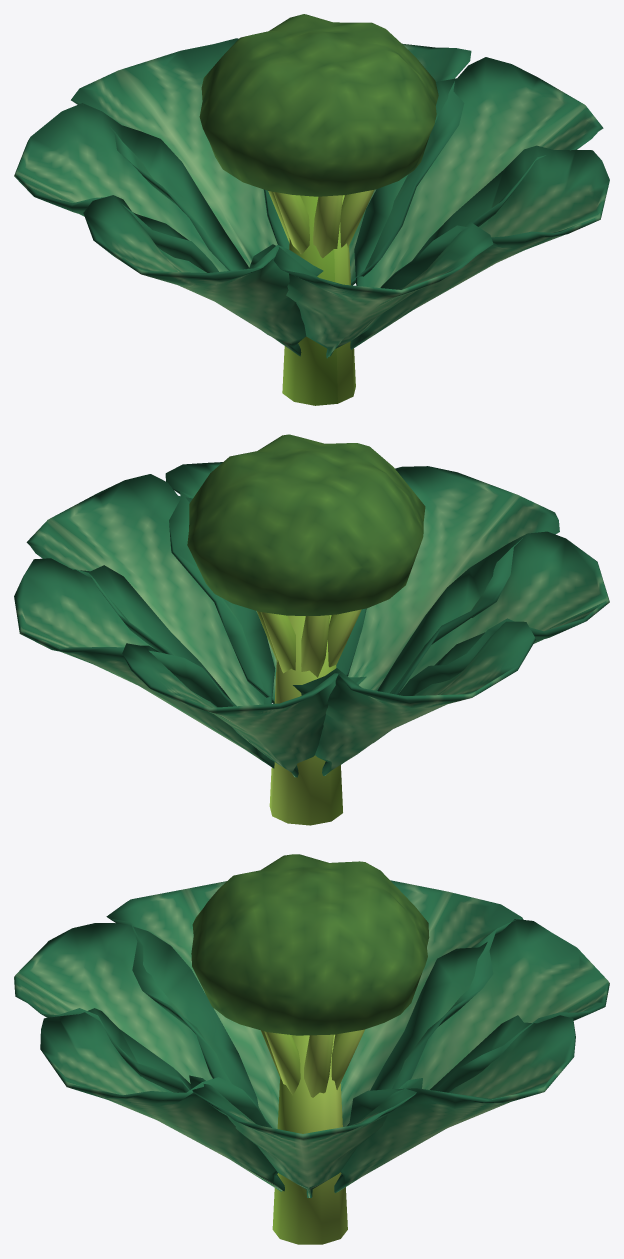
File: NP_Broccoli_HeadForming_LOD1.fbx
The picture shows the model from 3 angles, top to bottom: view 1: azimuth 30°, elevation 25°; view 2: azimuth 150°, elevation 25°; view 3: azimuth 270°, elevation 25°; orthographic projection.
Parts seen in each view (by area): view 1: NP_Broccoli_HeadForming; view 2: NP_Broccoli_HeadForming; view 3: NP_Broccoli_HeadForming.
Boxes of the visible parts, bbox=[...] form: NP_Broccoli_HeadForming: bbox=[14, 14, 609, 405]; NP_Broccoli_HeadForming: bbox=[14, 434, 609, 825]; NP_Broccoli_HeadForming: bbox=[14, 854, 609, 1244].
Bounding box in the file's own units: 61.76 × 40.62 × 61.73.
